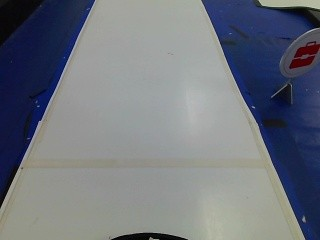company: (279, 28, 318, 78)
